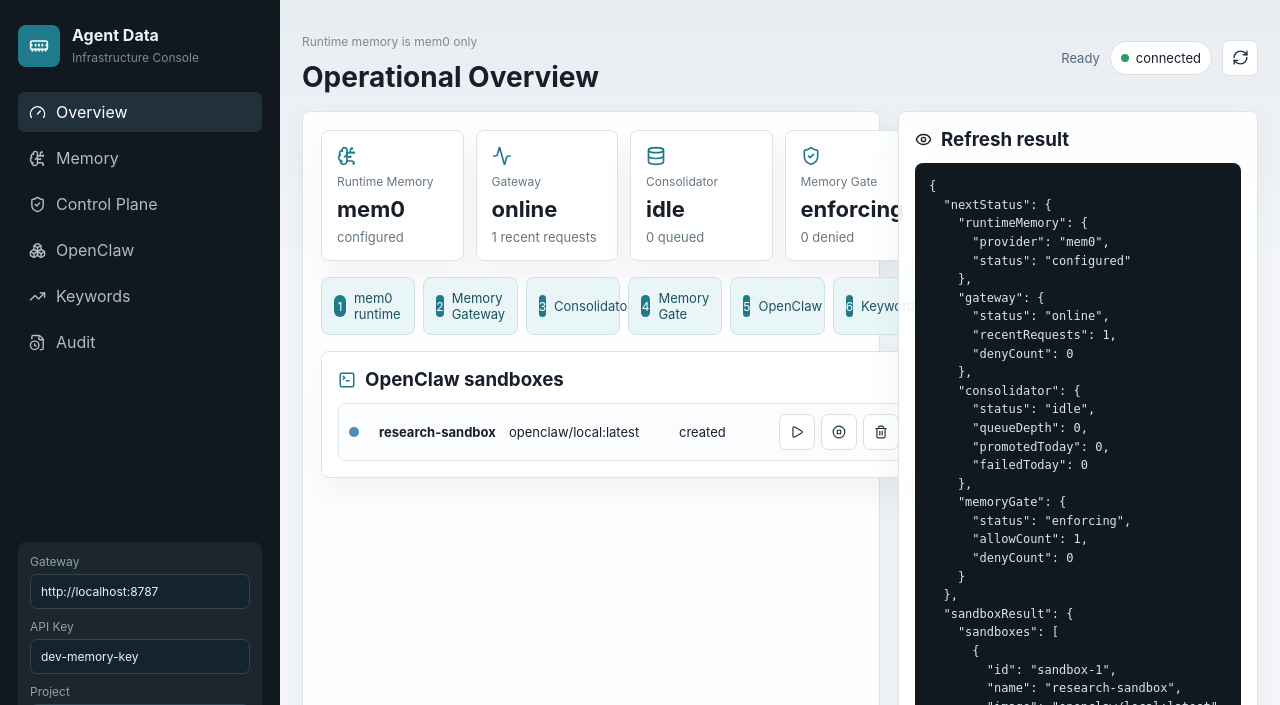
Scenario: App › keeps the OpenClaw create result visible after refreshing sandbox data
Click the button "OpenClaw" at (140, 250), box [18,230,262,270]
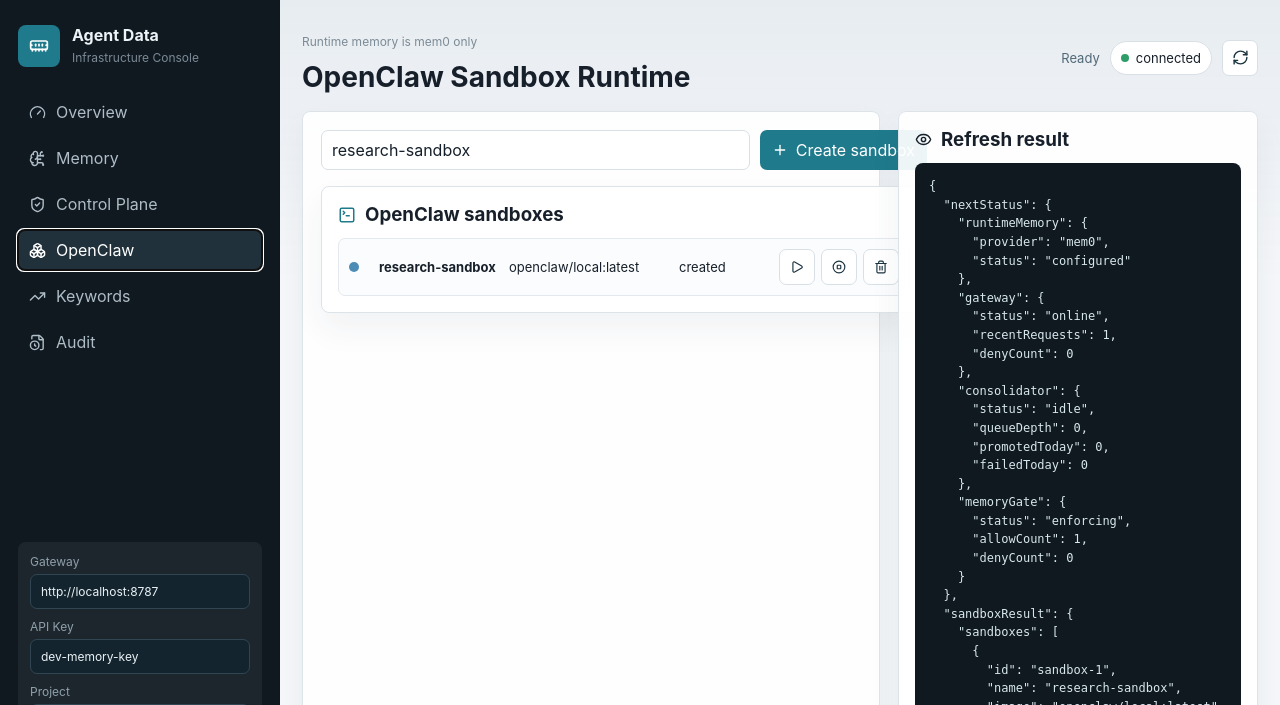
Click the button "Create sandbox" at (843, 150), box [760,130,927,170]
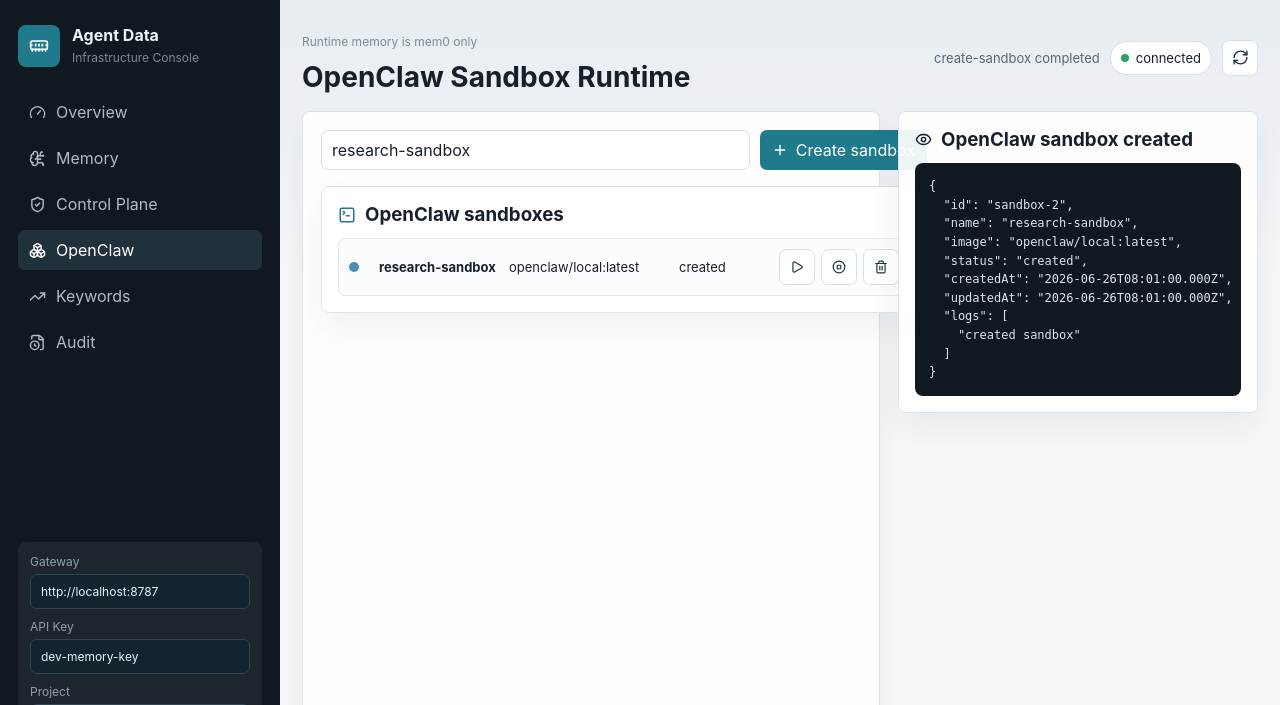
Result: the heading "OpenClaw sandbox created" is shown at [941,128,1193,151]
Result: the heading "Refresh result" is gone
